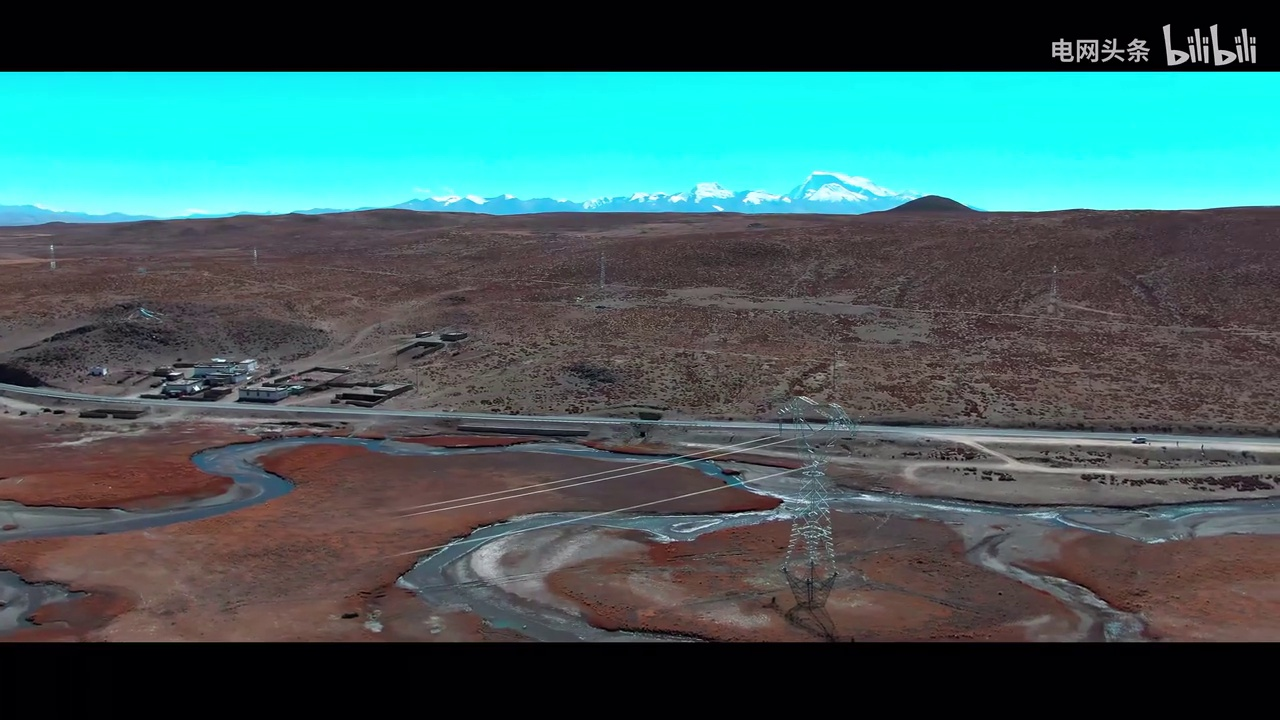tower_body: (768, 385, 872, 606)
tower_foot: (779, 538, 847, 600)
tower_head: (776, 392, 864, 471)
